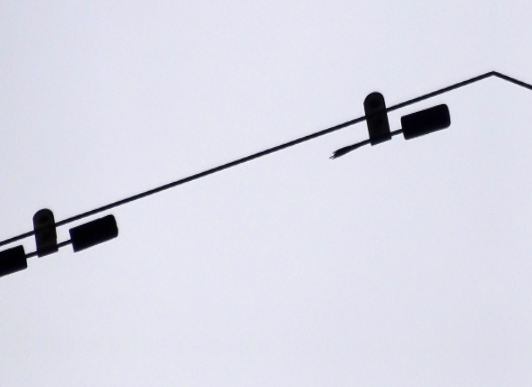damper_defect: (324, 89, 454, 166)
